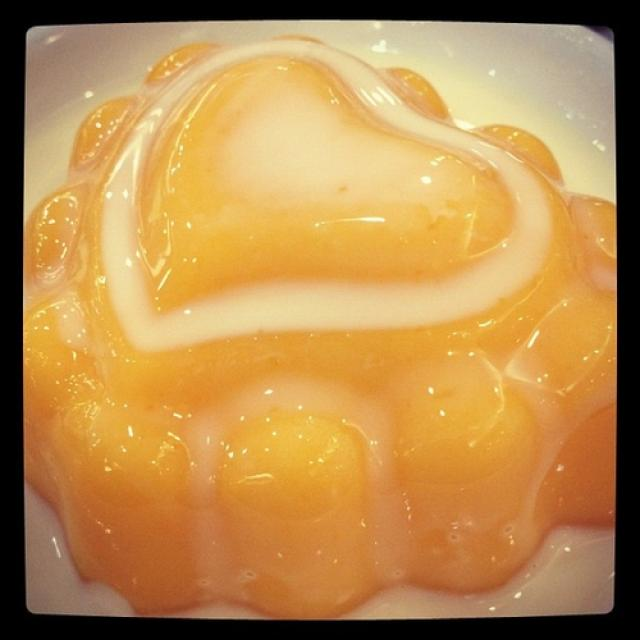蛋糕甜品: (23, 21, 620, 613)
